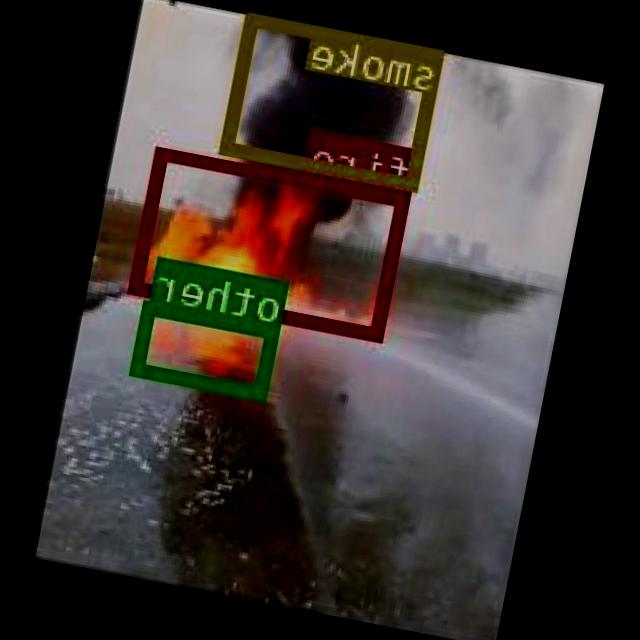fire: (130, 145, 412, 340)
smoke: (223, 10, 448, 191)
